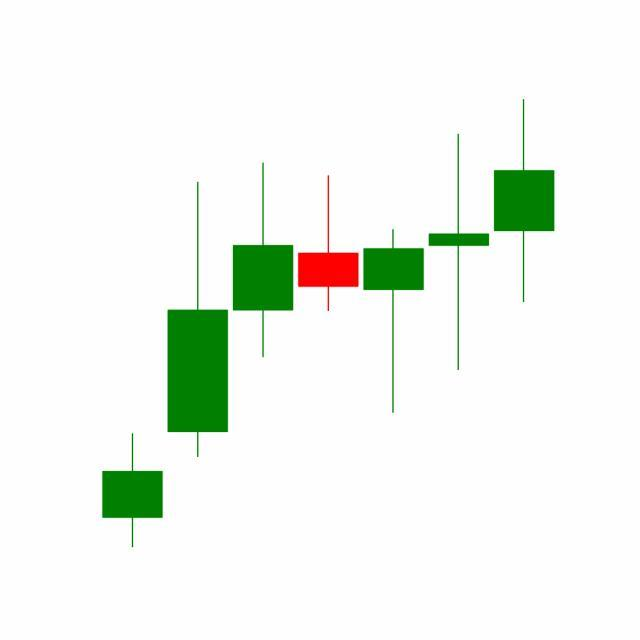Hikkake Pattern: (229, 100, 555, 418)
